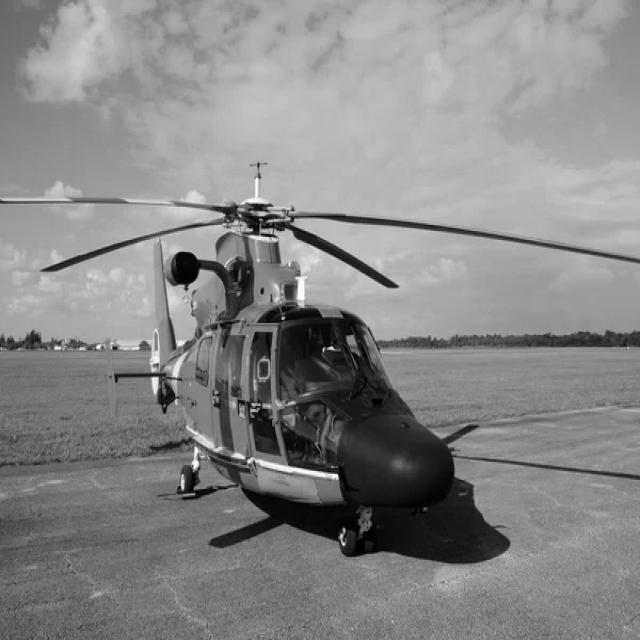Helicopter: (0, 166, 582, 556)
